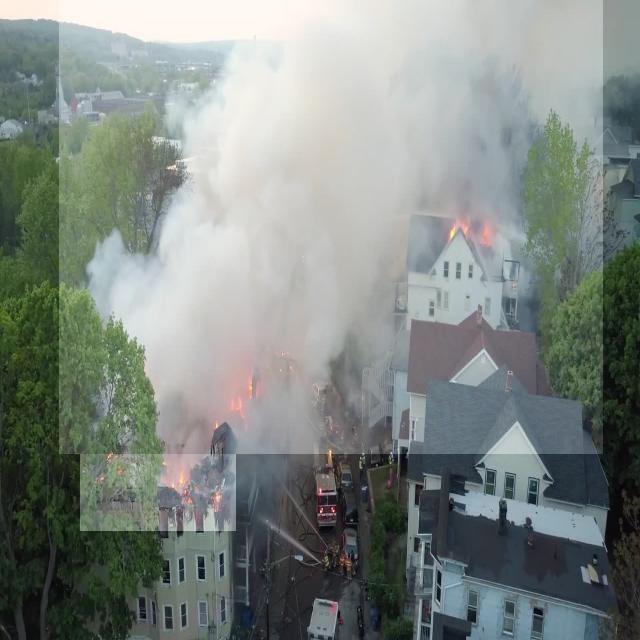Fire: (80, 418, 236, 531), (192, 337, 284, 442), (414, 192, 512, 280)
Smoke: (59, 0, 603, 454)
